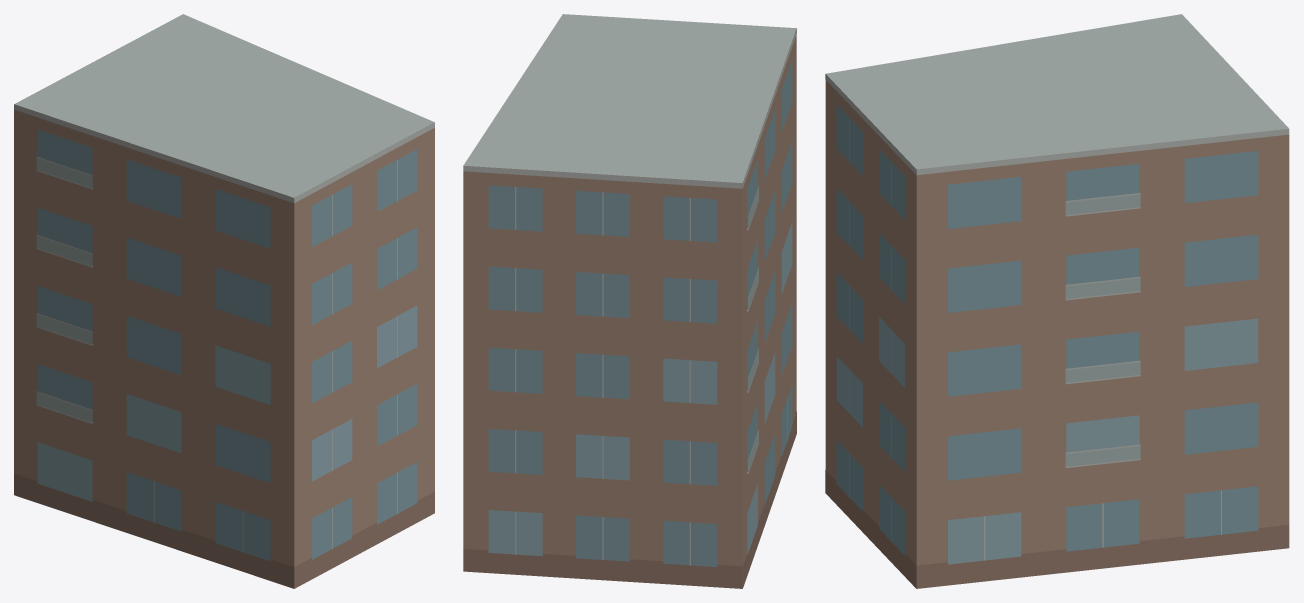
Rendered from survey-upis-32722202.glb.
The picture shows the model from 3 angles, left to right: view 1: azimuth 30°, elevation 25°; view 2: azimuth 150°, elevation 25°; view 3: azimuth 270°, elevation 25°; orthographic projection. The views are drawn at different scales.
Visible parts, largest first — view 1: survey-upis-32722202.tmp; view 2: survey-upis-32722202.tmp; view 3: survey-upis-32722202.tmp.
Part boxes in pixels (x1,y1,x2,y2): survey-upis-32722202.tmp: [14, 14, 434, 588]; survey-upis-32722202.tmp: [463, 14, 796, 588]; survey-upis-32722202.tmp: [825, 14, 1289, 588].
Bounding box in the file's own units: 14.16 × 17.8 × 17.85.
